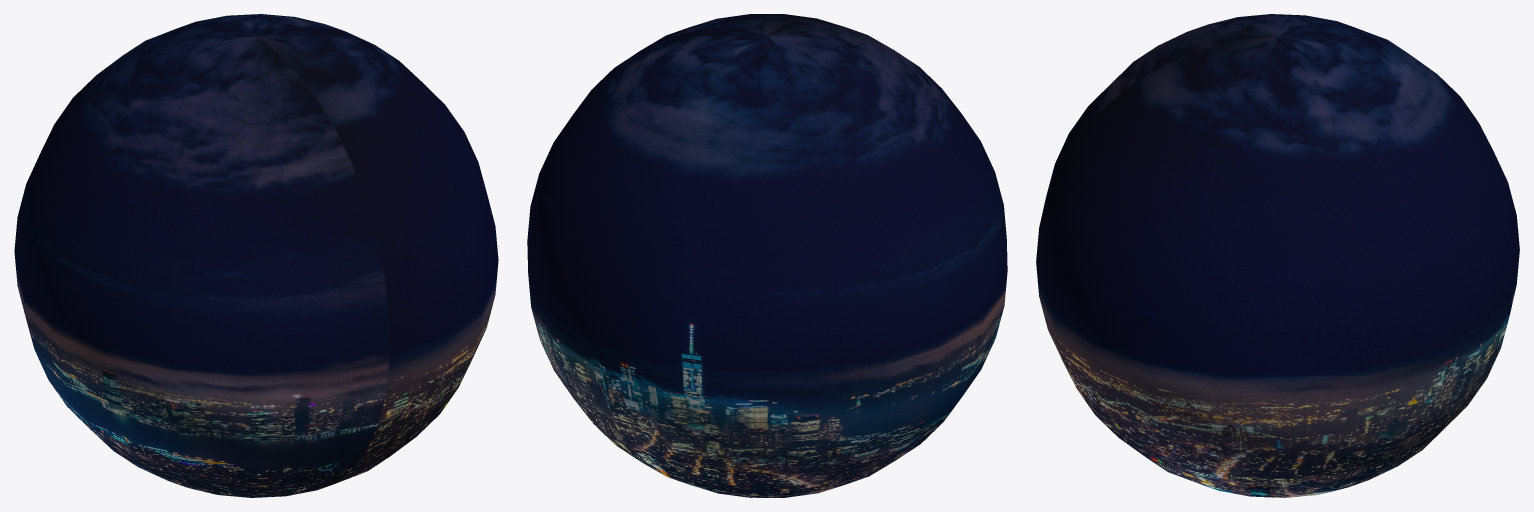
The model's file is gamble-battle.fbx.
The picture shows the model from 3 angles, left to right: view 1: azimuth 30°, elevation 25°; view 2: azimuth 150°, elevation 25°; view 3: azimuth 270°, elevation 25°; orthographic projection.
Visible parts, largest first — view 1: background_background_material_0; view 2: background_background_material_0; view 3: background_background_material_0.
Boxes of the visible parts, x1,y1,x2,y2 form: background_background_material_0: (14,14,498,497); background_background_material_0: (527,14,1007,497); background_background_material_0: (1036,14,1519,497).
Bounding box in the file's own units: 200385 × 200753 × 200385.
Materials: 9 (9 with a texture image).
